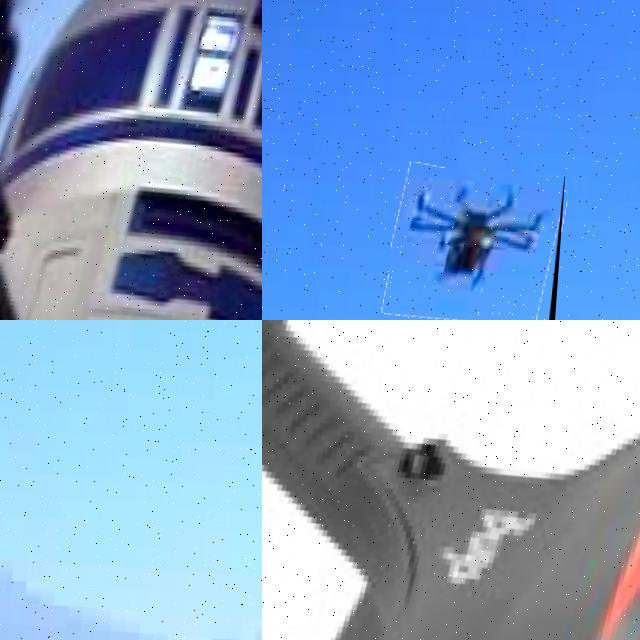drone: (262, 320, 640, 640), (0, 0, 262, 320), (384, 164, 564, 320)
